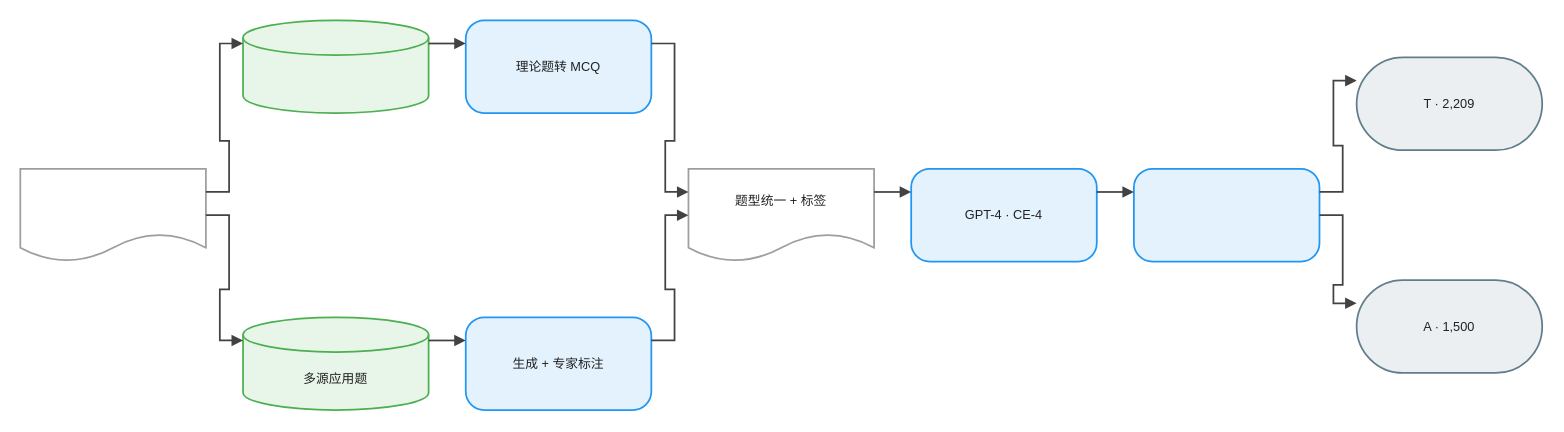
Some shapes in this 1564 by 432 pixel diagram are drawn without their labels. The shapes that lost their labels are listed below. From the top down, each one's box as (x1, y1, x2, y2) in pixels, then its label:
(242, 19, 429, 113): 教材 + 网络理论
(19, 167, 206, 262): 五阶段三层体系
(1133, 167, 1320, 262): 人工复核
